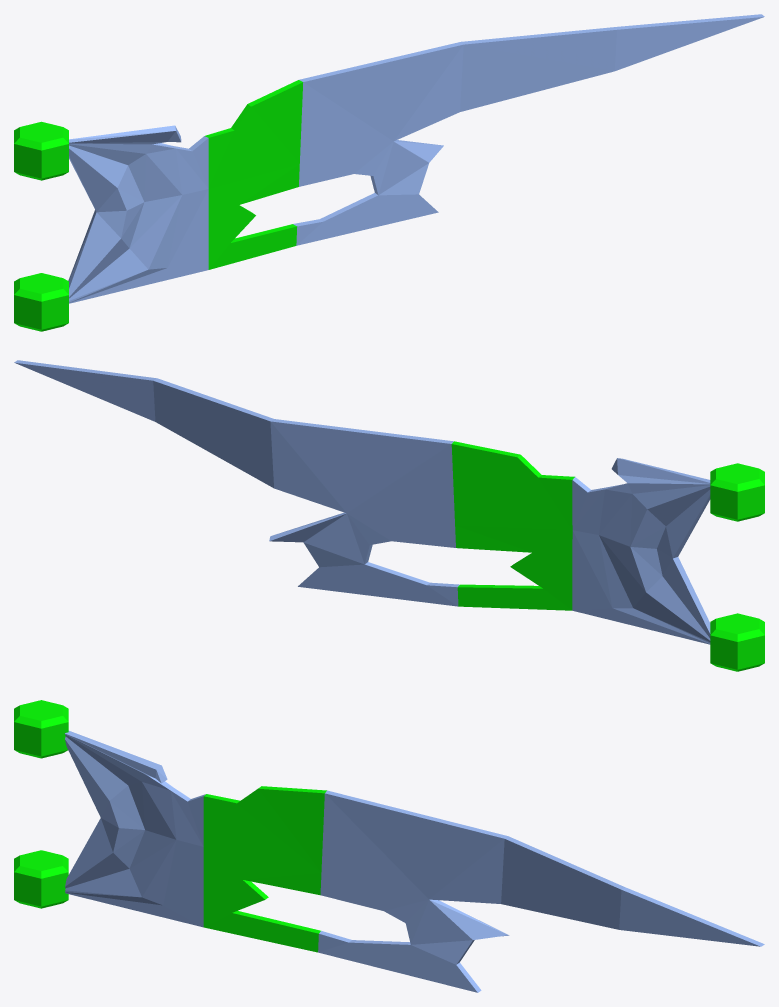
The model's file is SM_Flag_Thin_C_Broken_Fantasy.fbx.
3 renders of one model, top to bottom at view 1: azimuth 30°, elevation 25°; view 2: azimuth 150°, elevation 25°; view 3: azimuth 330°, elevation 25°, orthographic.
Visible parts, largest first — view 1: flag-thin-c-broken-fantasy; view 2: flag-thin-c-broken-fantasy; view 3: flag-thin-c-broken-fantasy.
Part boxes in pixels (left/top/right/bottom): flag-thin-c-broken-fantasy: left=14, top=14, right=764, bottom=331; flag-thin-c-broken-fantasy: left=14, top=360, right=764, bottom=671; flag-thin-c-broken-fantasy: left=14, top=700, right=764, bottom=992.
Bounding box in the file's own units: 1.22 × 0.3077 × 0.1424.
